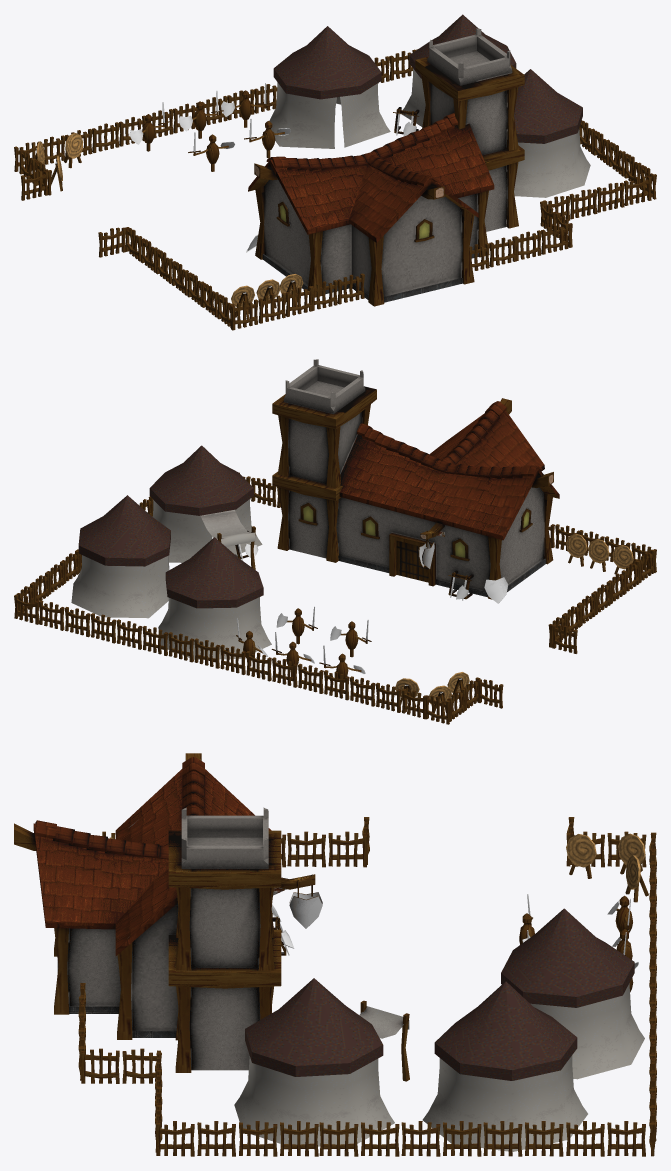
File: barracks.obj
3 renders of one model, top to bottom at view 1: azimuth 30°, elevation 25°; view 2: azimuth 150°, elevation 25°; view 3: azimuth 270°, elevation 25°, orthographic. The views are drawn at different scales.
Parts seen in each view (by area): view 1: barracks; view 2: barracks; view 3: barracks.
Part boxes in pixels (<box>): barracks: <box>14,14,656,330</box>; barracks: <box>14,359,656,724</box>; barracks: <box>14,753,656,1156</box>.
Size of the model in its own units: 36.89 by 12.92 by 32.51.
1 material, 1 textured.
